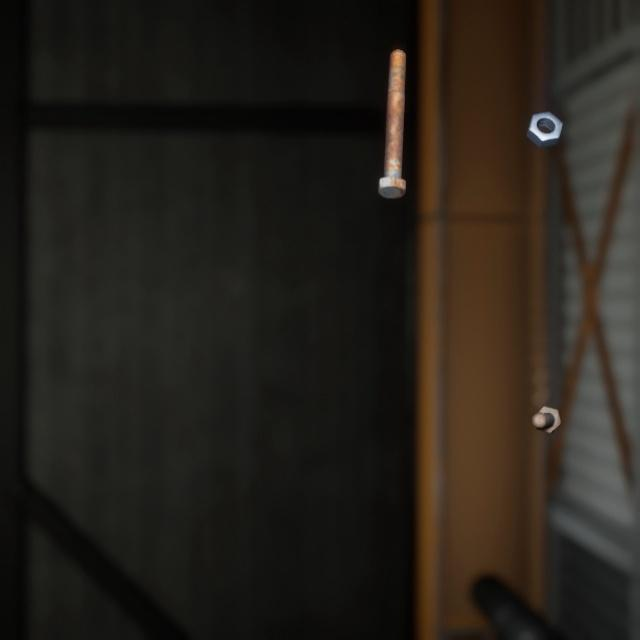bolt: (373, 34, 410, 191), (527, 382, 566, 418)
nut: (521, 95, 566, 139)
